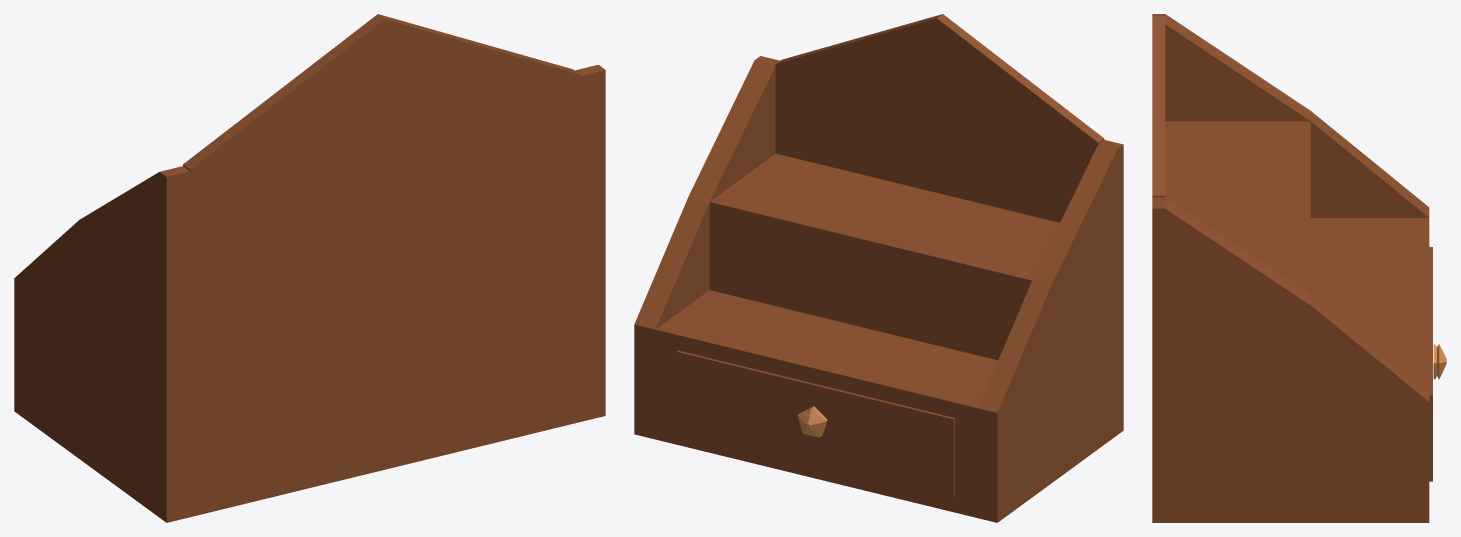
File: shelf.fbx
The picture shows the model from 3 angles, left to right: view 1: azimuth 30°, elevation 25°; view 2: azimuth 150°, elevation 25°; view 3: azimuth 270°, elevation 25°; orthographic projection. The views are drawn at different scales.
Parts seen in each view (by area): view 1: Cube.003; view 2: Cube.003; view 3: Cube.003.
Part boxes in pixels (x1,y1,x2,y2): Cube.003: (14, 14, 605, 522); Cube.003: (634, 14, 1123, 522); Cube.003: (1152, 14, 1446, 522).
Bounding box in the file's own units: 135 × 133 × 86.43.
